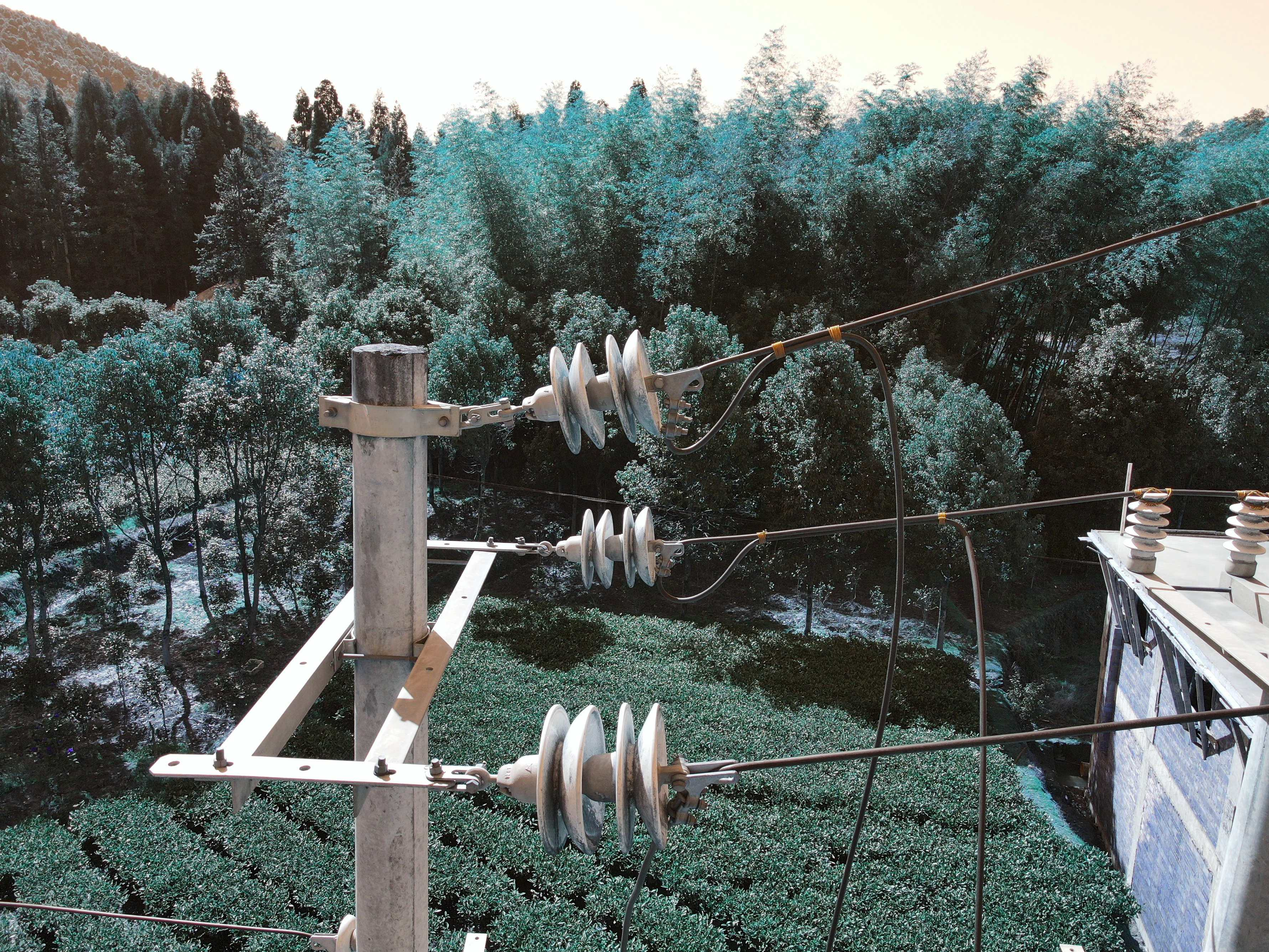severe_soiling_no_discharge_whole: (496, 698, 675, 858), (523, 327, 666, 455), (556, 506, 659, 592)
